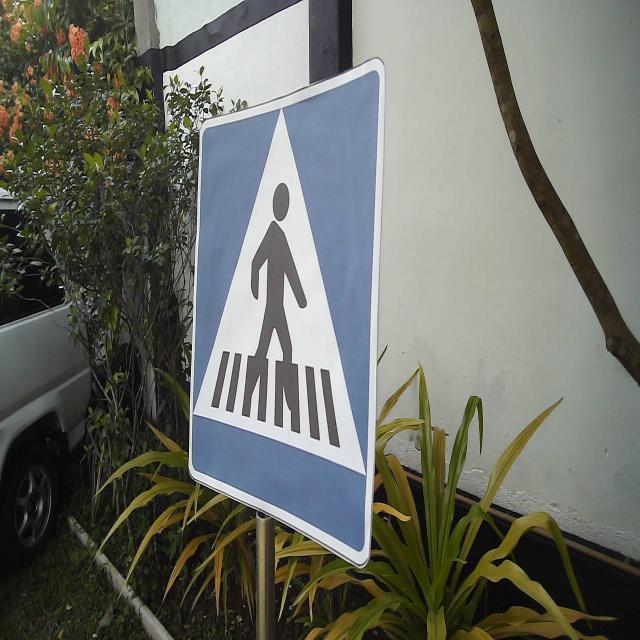crosswalk_sign: (187, 54, 388, 572)
